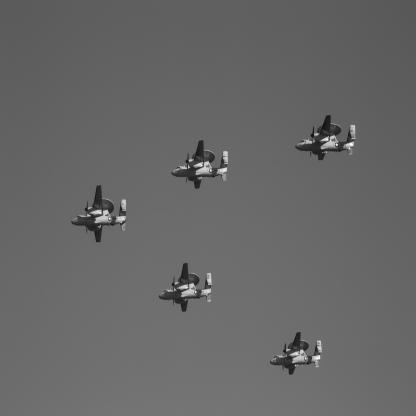E2: (72, 186, 127, 244), (172, 140, 229, 190), (297, 116, 357, 162), (160, 263, 213, 313), (271, 332, 323, 376)
